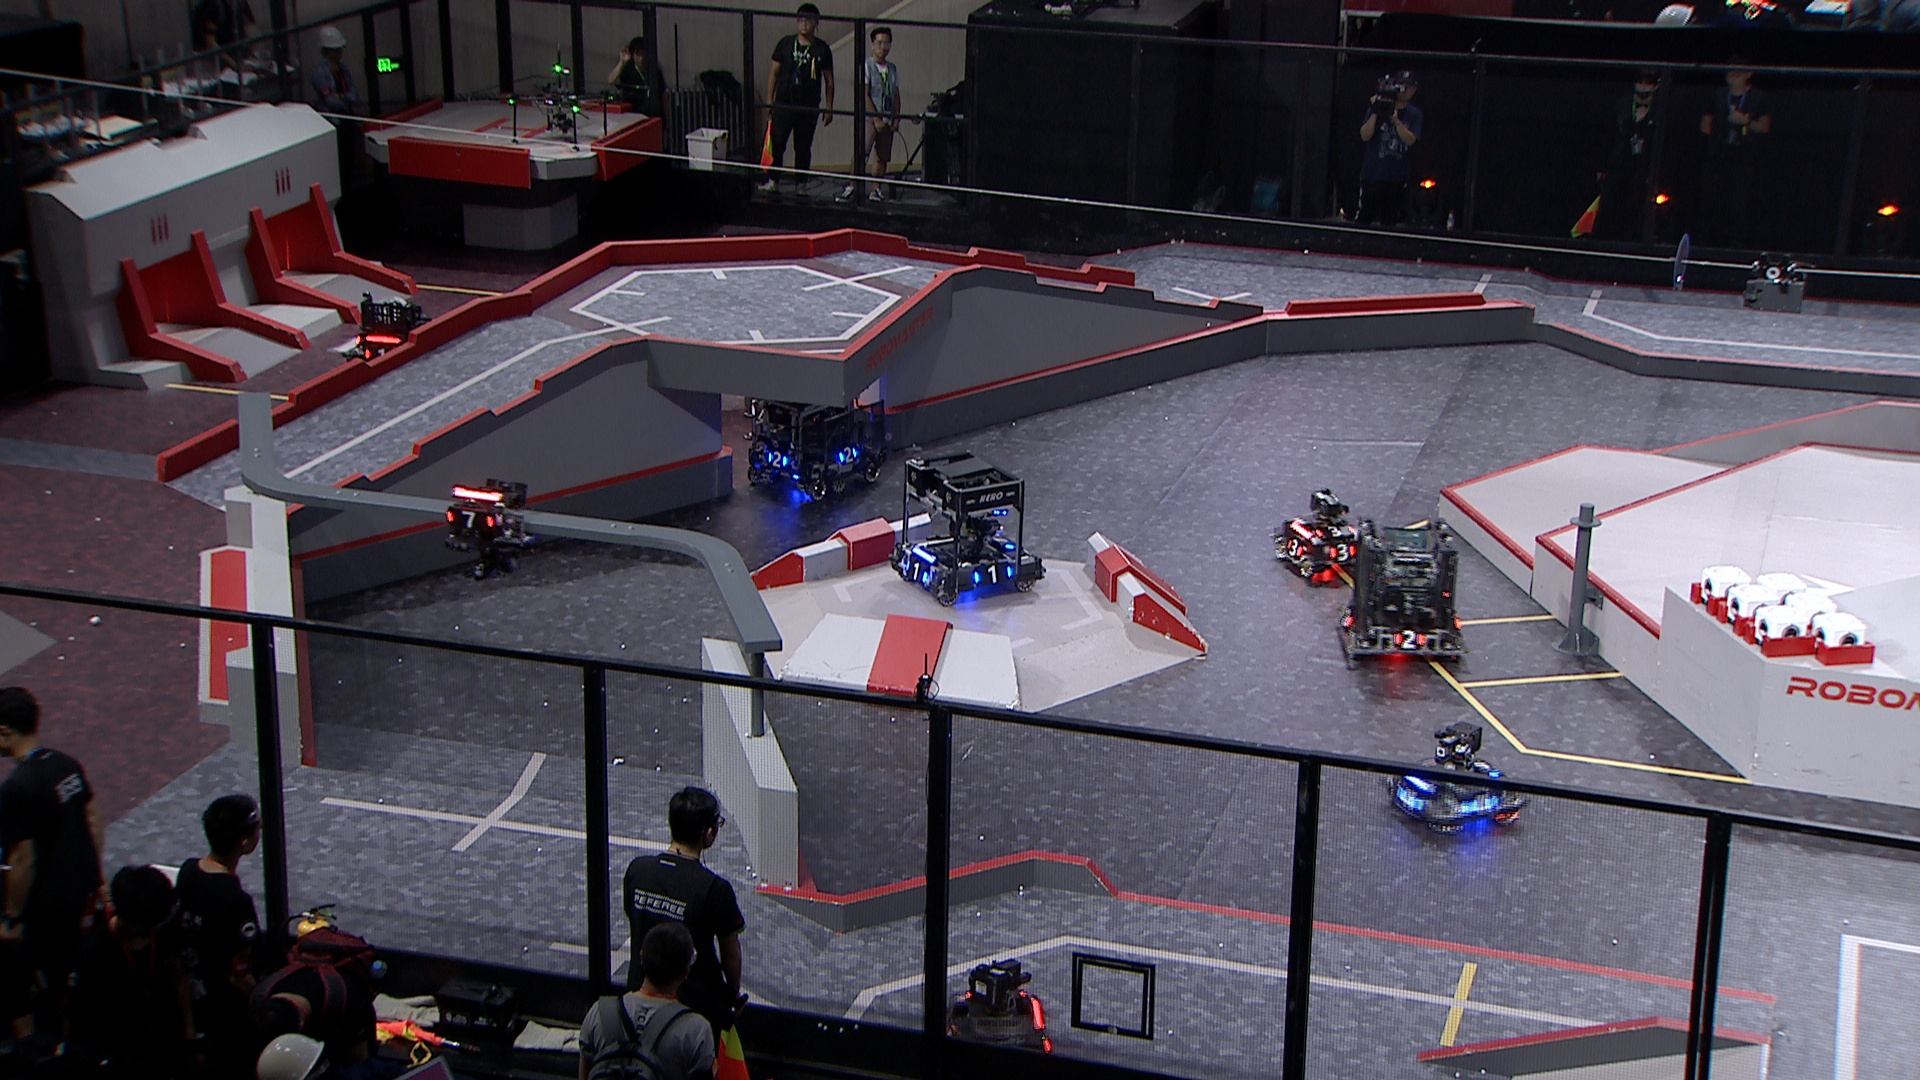armor: (447, 510, 493, 533), (1393, 783, 1423, 812), (902, 556, 932, 585), (1391, 629, 1429, 651), (1461, 794, 1495, 818), (971, 564, 1011, 584), (1472, 756, 1501, 781), (1317, 524, 1353, 541), (1327, 542, 1356, 560), (766, 450, 789, 469), (993, 531, 1015, 551), (1286, 537, 1304, 556), (365, 345, 386, 361), (837, 446, 858, 462), (1342, 607, 1354, 633)
car: (887, 446, 1043, 609), (736, 360, 887, 501), (1335, 509, 1472, 662), (1385, 721, 1527, 839), (926, 949, 1054, 1072), (1269, 488, 1385, 585), (334, 291, 438, 377)
watcher: (440, 476, 537, 583)
